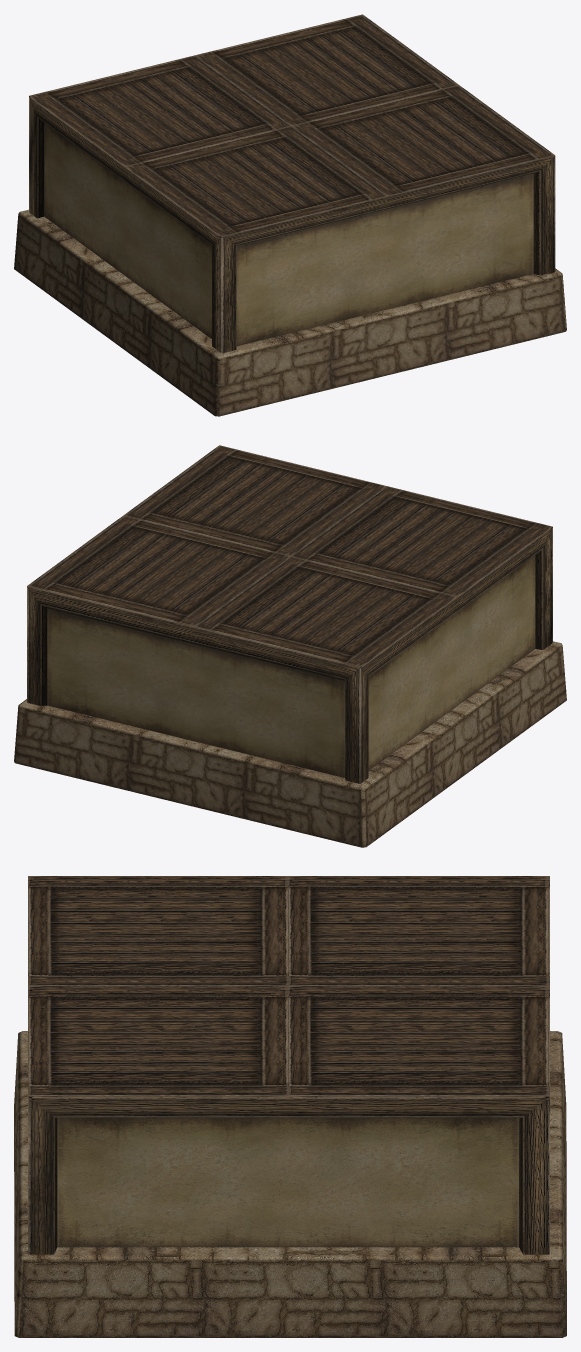
Rendered from House_8X8_02a.fbx.
3 renders of one model, top to bottom at view 1: azimuth 30°, elevation 25°; view 2: azimuth 150°, elevation 25°; view 3: azimuth 270°, elevation 25°, orthographic. The views are drawn at different scales.
Visible parts, largest first — view 1: House_8X8_02a; view 2: House_8X8_02a; view 3: House_8X8_02a.
Boxes of the visible parts, left/top/right/bottom form: House_8X8_02a: left=14, top=14, right=566, bottom=416; House_8X8_02a: left=14, top=445, right=566, bottom=847; House_8X8_02a: left=14, top=876, right=566, bottom=1337.
Bounding box in the file's own units: 8.45 × 3.99 × 8.48.
